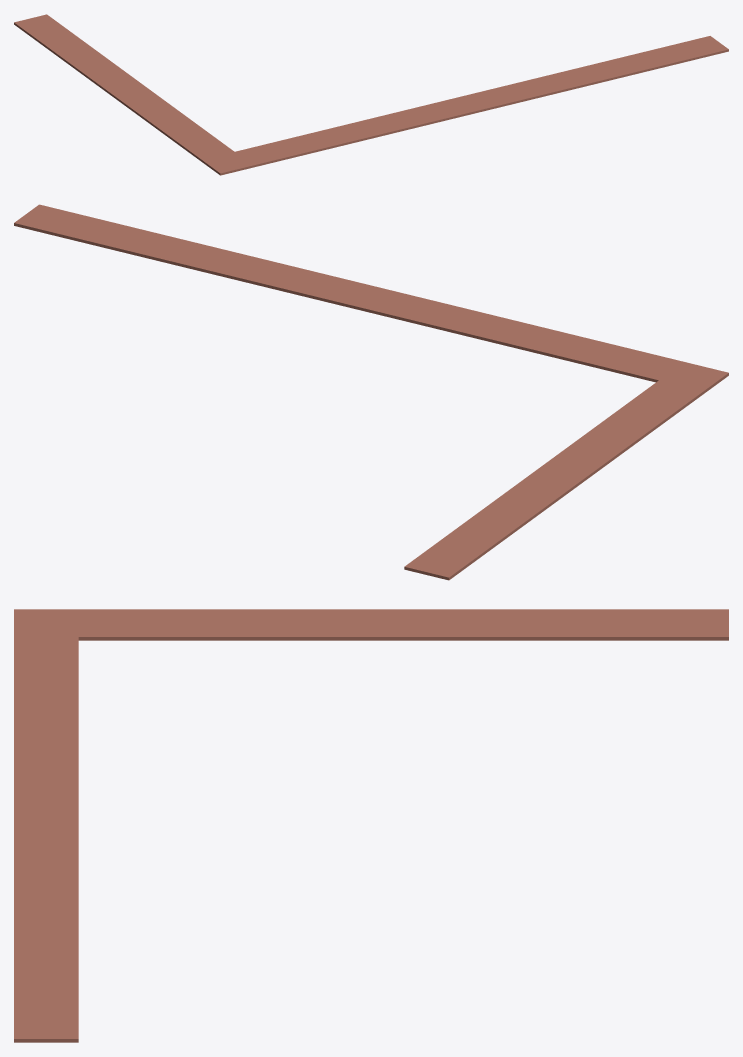
Rendered from tile-angle-line.glb.
The picture shows the model from 3 angles, top to bottom: view 1: azimuth 30°, elevation 25°; view 2: azimuth 150°, elevation 25°; view 3: azimuth 270°, elevation 25°; orthographic projection. The views are drawn at different scales.
Parts seen in each view (by area): view 1: Tile.AngleLine; view 2: Tile.AngleLine; view 3: Tile.AngleLine.
Part boxes in pixels (x1=…): Tile.AngleLine: x1=14, y1=14, x2=728, y2=175; Tile.AngleLine: x1=14, y1=204, x2=728, y2=580; Tile.AngleLine: x1=14, y1=609, x2=728, y2=1042.
Bounding box in the file's own units: 1.36 × 0.0054 × 0.9538.
